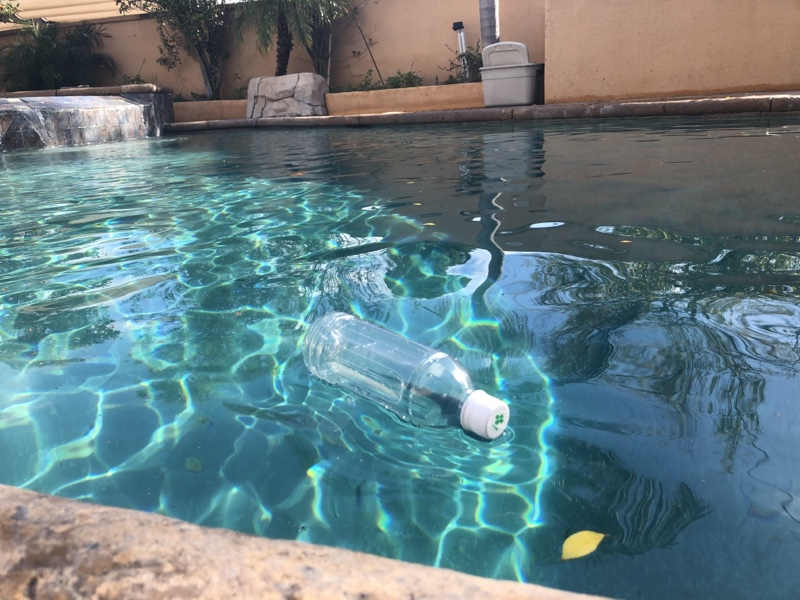Plastic Bottle: (302, 308, 512, 444)
